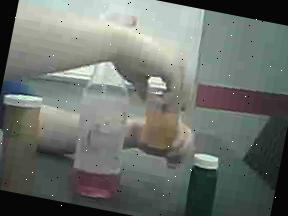Bottle A: (0, 88, 56, 197)
Bottle B: (132, 76, 190, 160)
Bottle C: (179, 151, 225, 216)
hazard: (66, 66, 140, 204)
